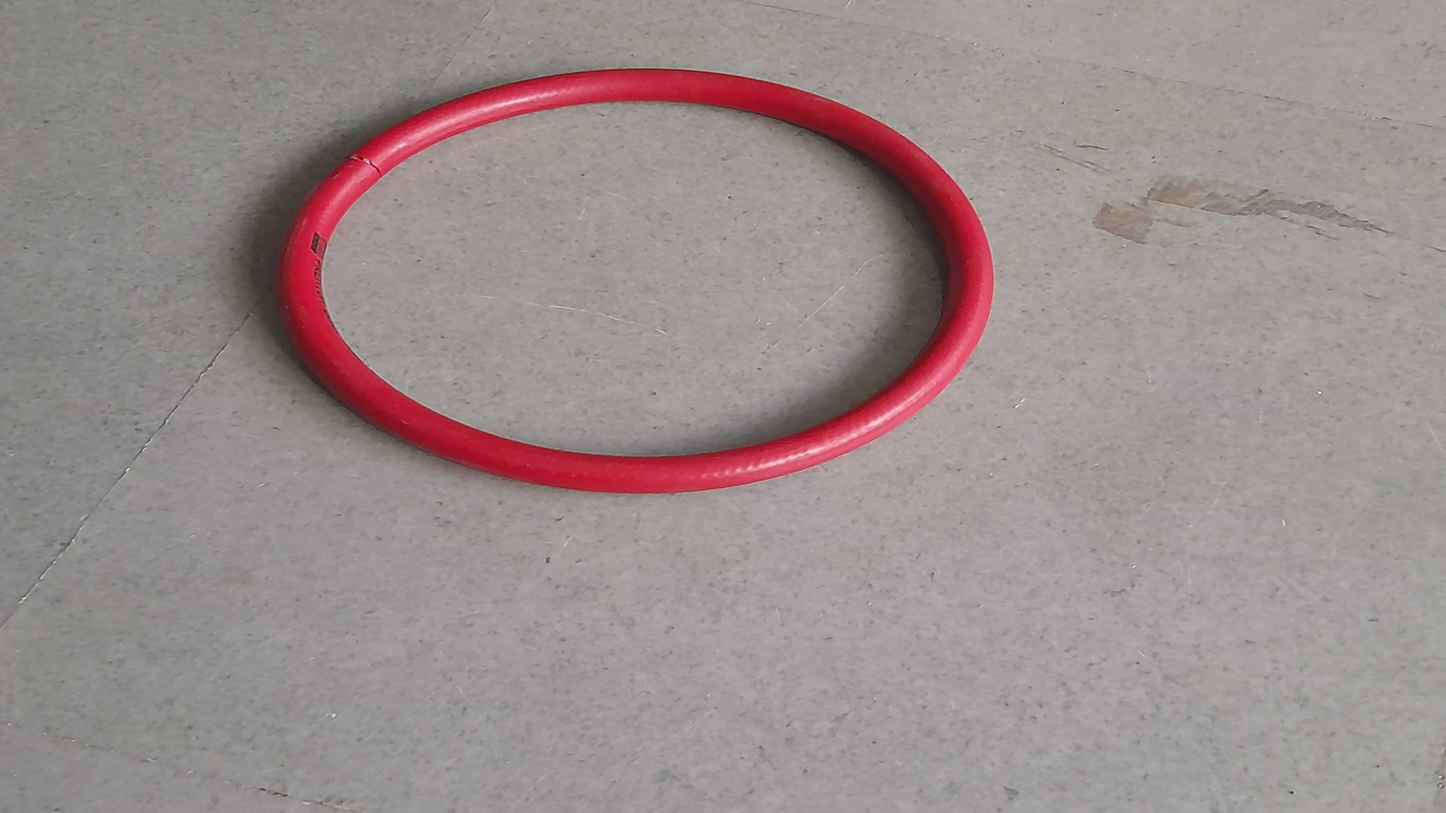Red ring: (282, 67, 996, 492)
